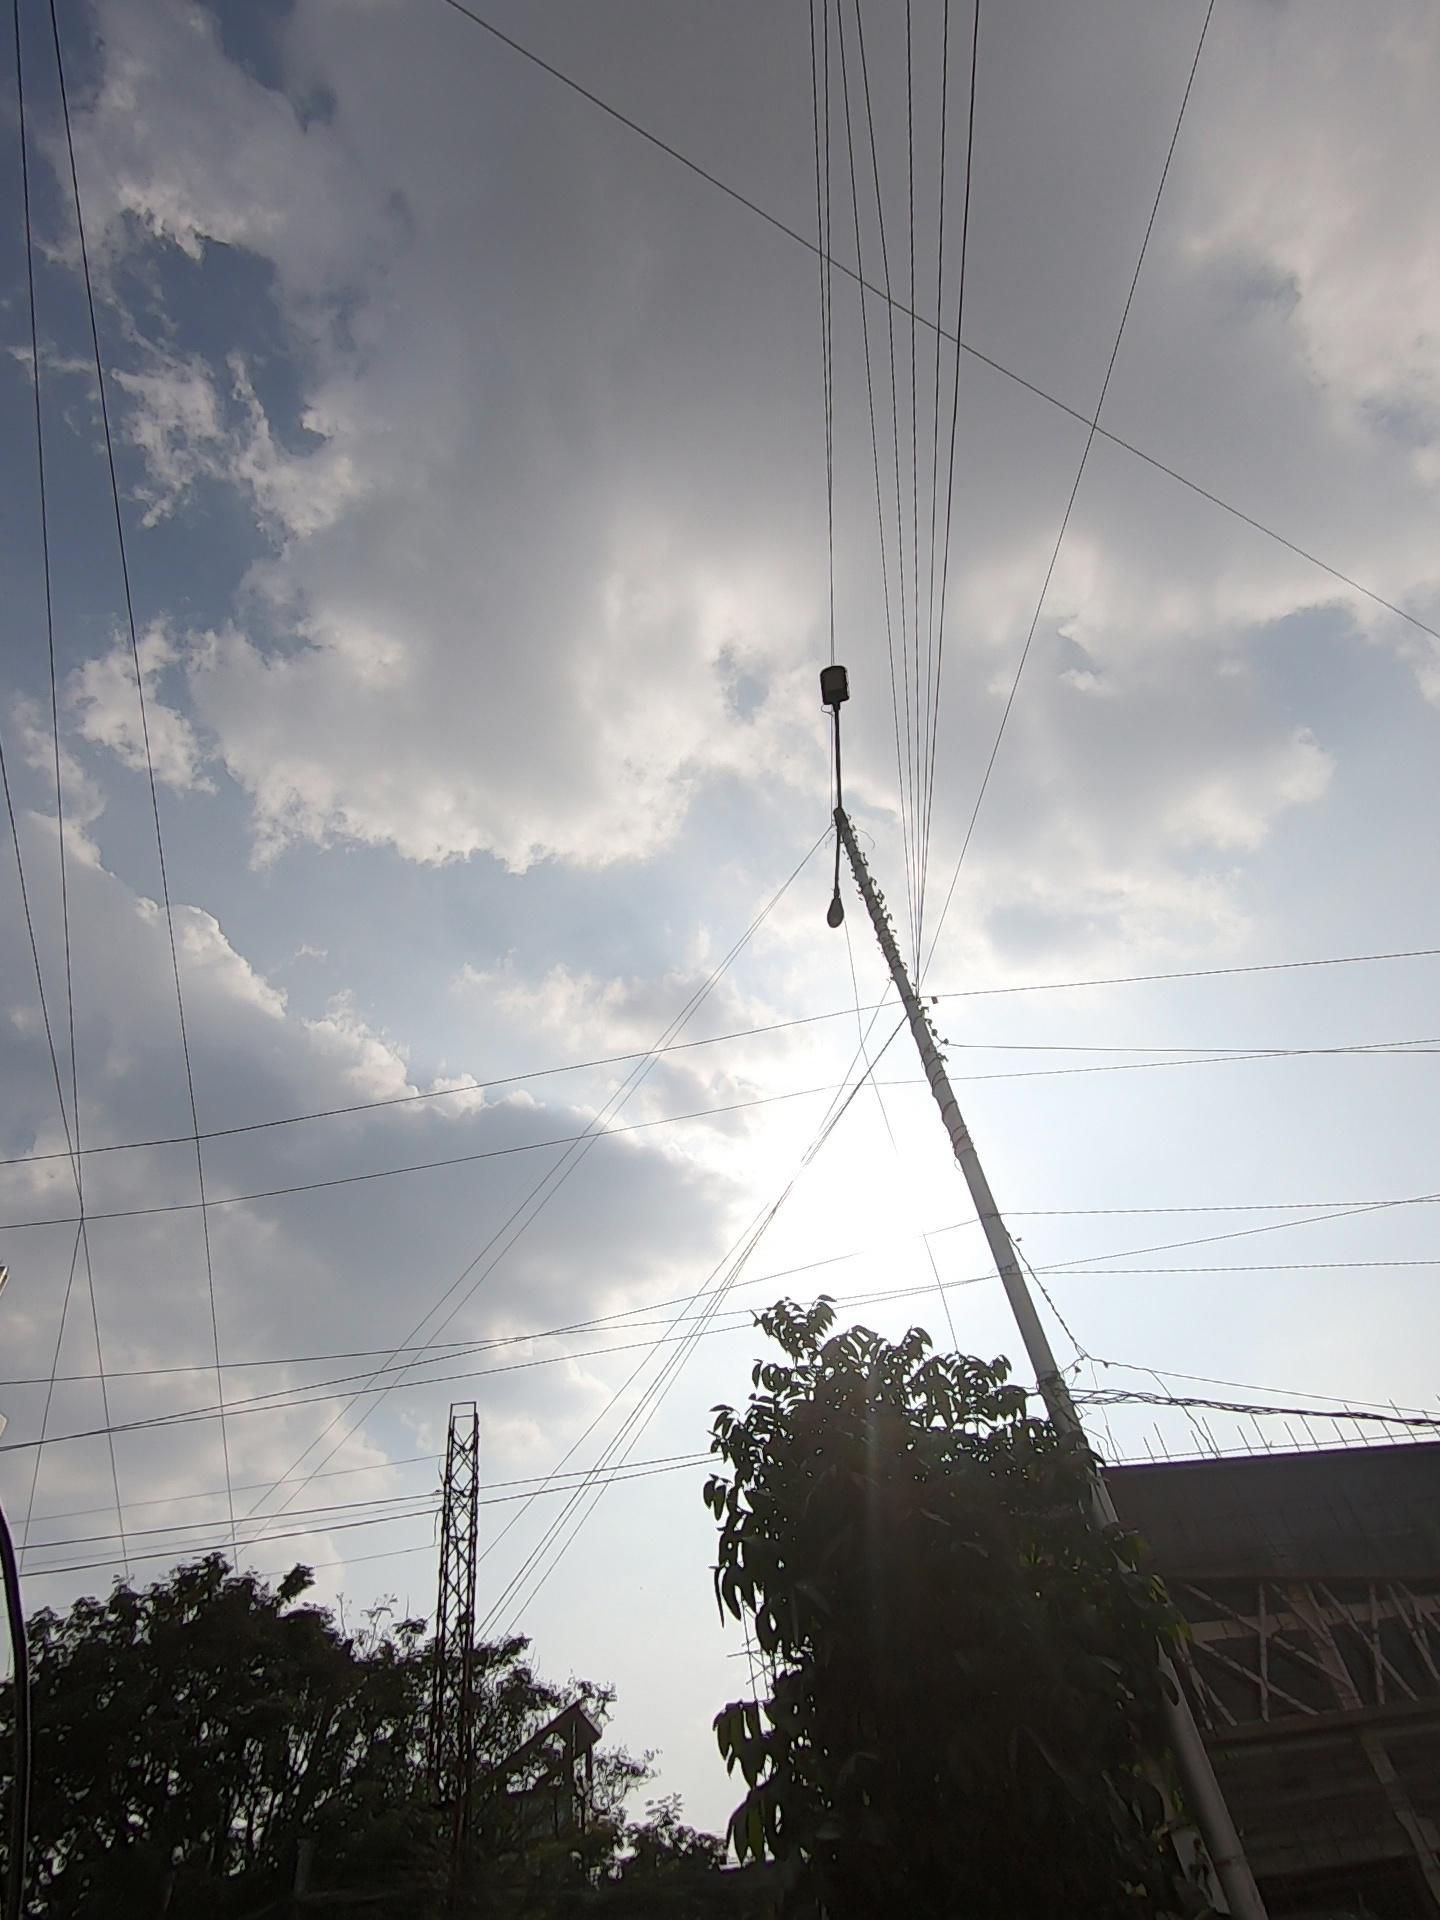off: (755, 596, 927, 1016)
